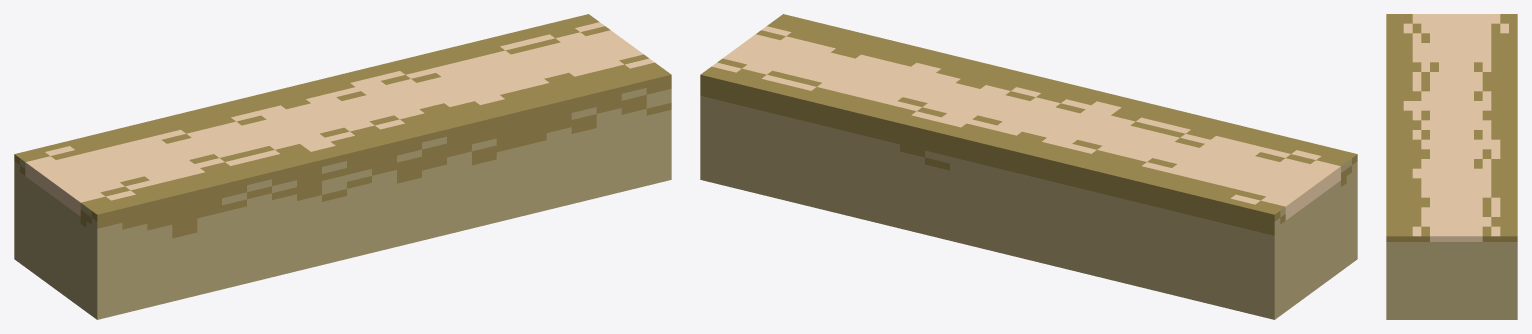
Rendered from Plataforma Desierto.fbx.
The picture shows the model from 3 angles, left to right: view 1: azimuth 30°, elevation 25°; view 2: azimuth 150°, elevation 25°; view 3: azimuth 270°, elevation 25°; orthographic projection. The views are drawn at different scales.
Parts seen in each view (by area): view 1: Box001; view 2: Box001; view 3: Box001.
Part boxes in pixels (box(x1,y1,x2,y2)): Box001: box(14, 14, 671, 319); Box001: box(700, 14, 1357, 319); Box001: box(1386, 14, 1517, 319).
Size of the model in its own units: 200 by 35 by 50.
